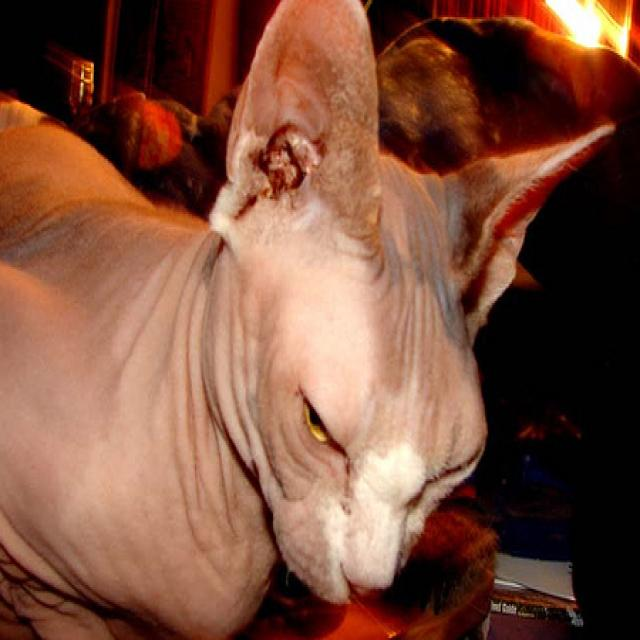Sphynx: (0, 0, 620, 640)
